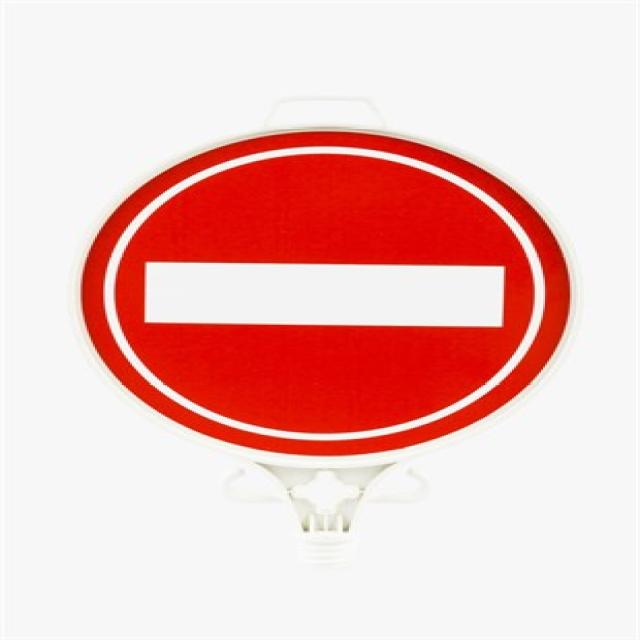Sens-Interdit: (77, 128, 582, 460)
